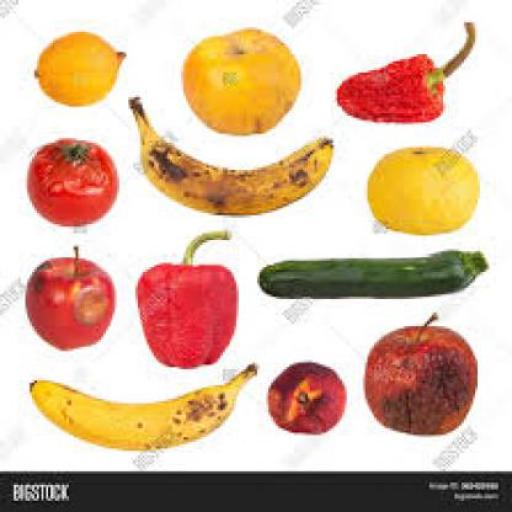biodegradable: (126, 93, 331, 211), (26, 362, 256, 448), (360, 308, 476, 433), (133, 229, 236, 369), (333, 20, 473, 120), (179, 25, 299, 134), (256, 247, 486, 299), (22, 242, 112, 351), (365, 146, 478, 232), (25, 136, 118, 225), (30, 30, 126, 102), (266, 360, 344, 433)
